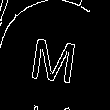M_N: (28, 27, 82, 83)
